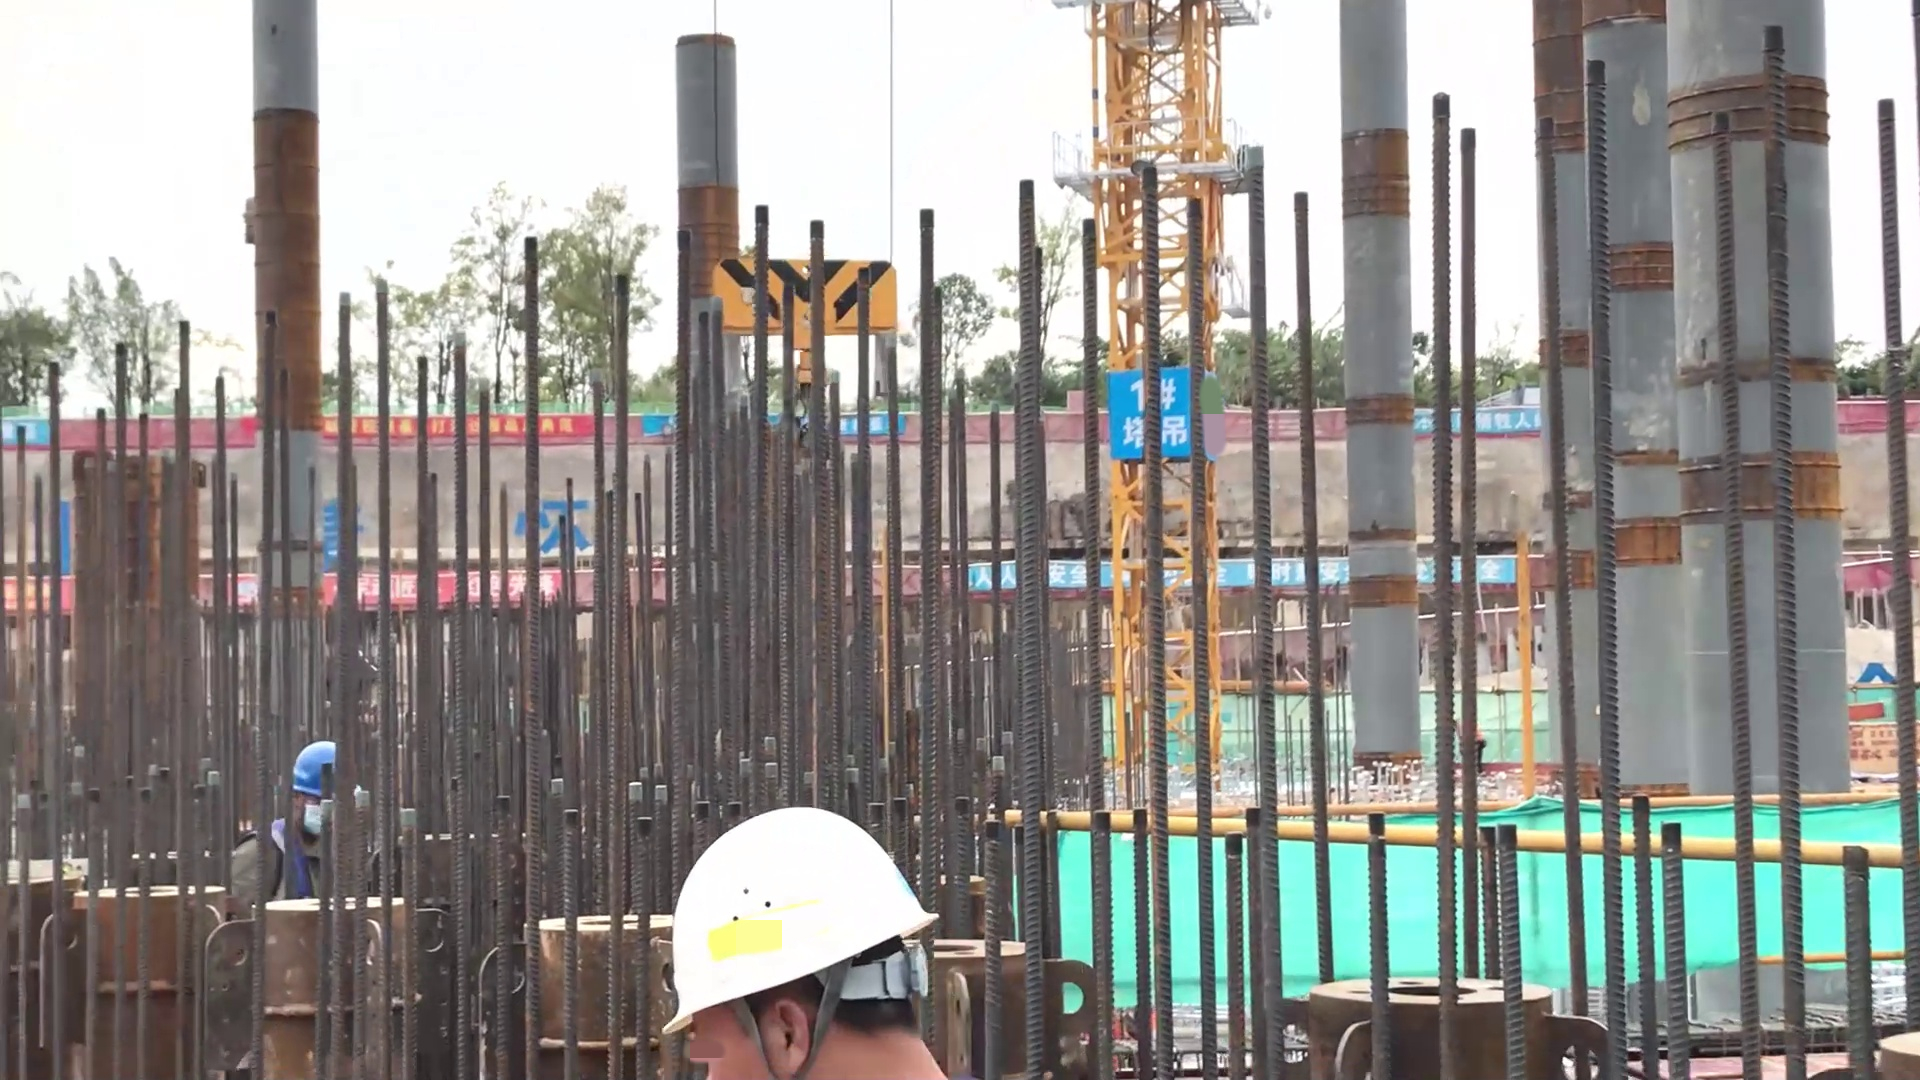helmet: (649, 786, 953, 1032), (271, 736, 358, 813)
hook: (703, 235, 905, 423)
person: (650, 794, 954, 1080), (213, 737, 361, 1037)
